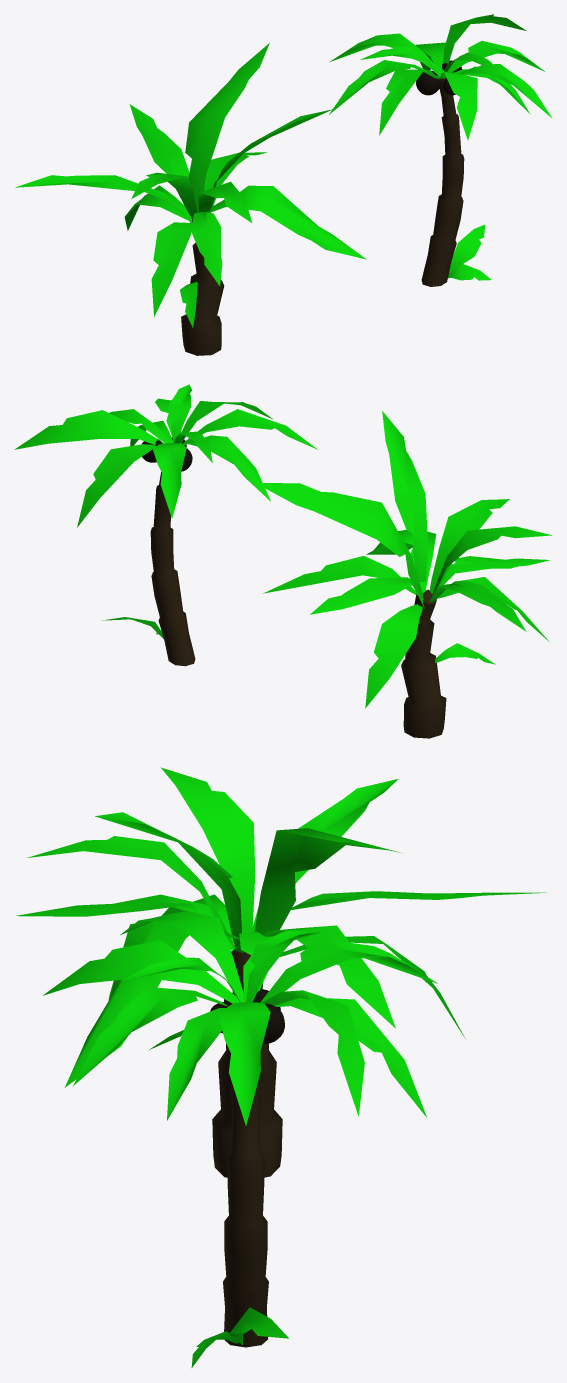
Rendered from Palm trees.fbx.
The picture shows the model from 3 angles, top to bottom: view 1: azimuth 30°, elevation 25°; view 2: azimuth 150°, elevation 25°; view 3: azimuth 270°, elevation 25°; orthographic projection. The views are drawn at different scales.
Parts seen in each view (by area): view 1: Palm_tree_small, Palm_tree_big; view 2: Palm_tree_small, Palm_tree_big; view 3: Palm_tree_big, Palm_tree_small.
Part boxes in pixels (x1=…): Palm_tree_small: x1=15, y1=43, x2=366, y2=355; Palm_tree_big: x1=329, y1=14, x2=552, y2=286; Palm_tree_small: x1=255, y1=411, x2=551, y2=738; Palm_tree_big: x1=14, y1=384, x2=317, y2=666; Palm_tree_big: x1=43, y1=911, x2=437, y2=1367; Palm_tree_small: x1=16, y1=767, x2=546, y2=1177.
Size of the model in its own units: 48.56 by 23.26 by 26.94.
